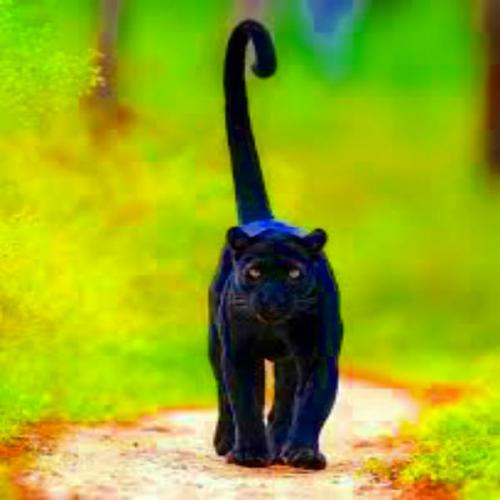panther-endangered: (207, 19, 344, 469)
